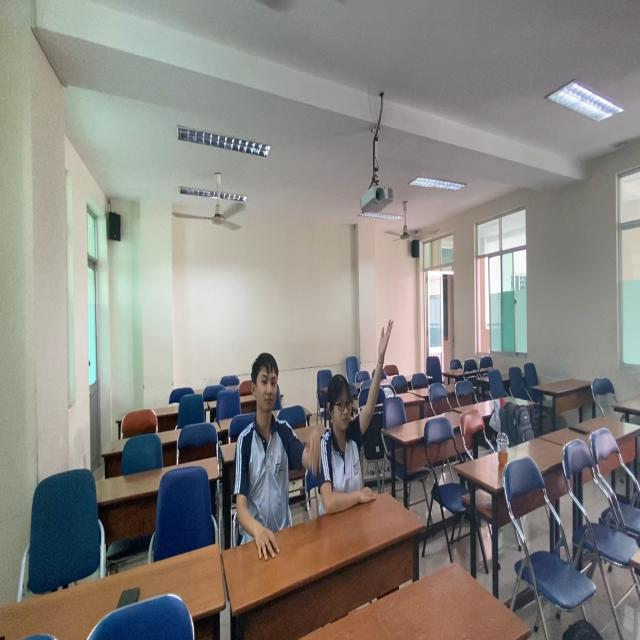raise_hand: (305, 293, 417, 553)
